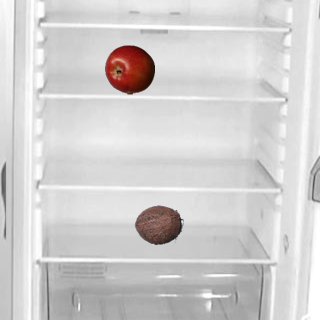Apple Braeburn: (104, 44, 154, 94)
Cocos: (133, 199, 183, 249)
